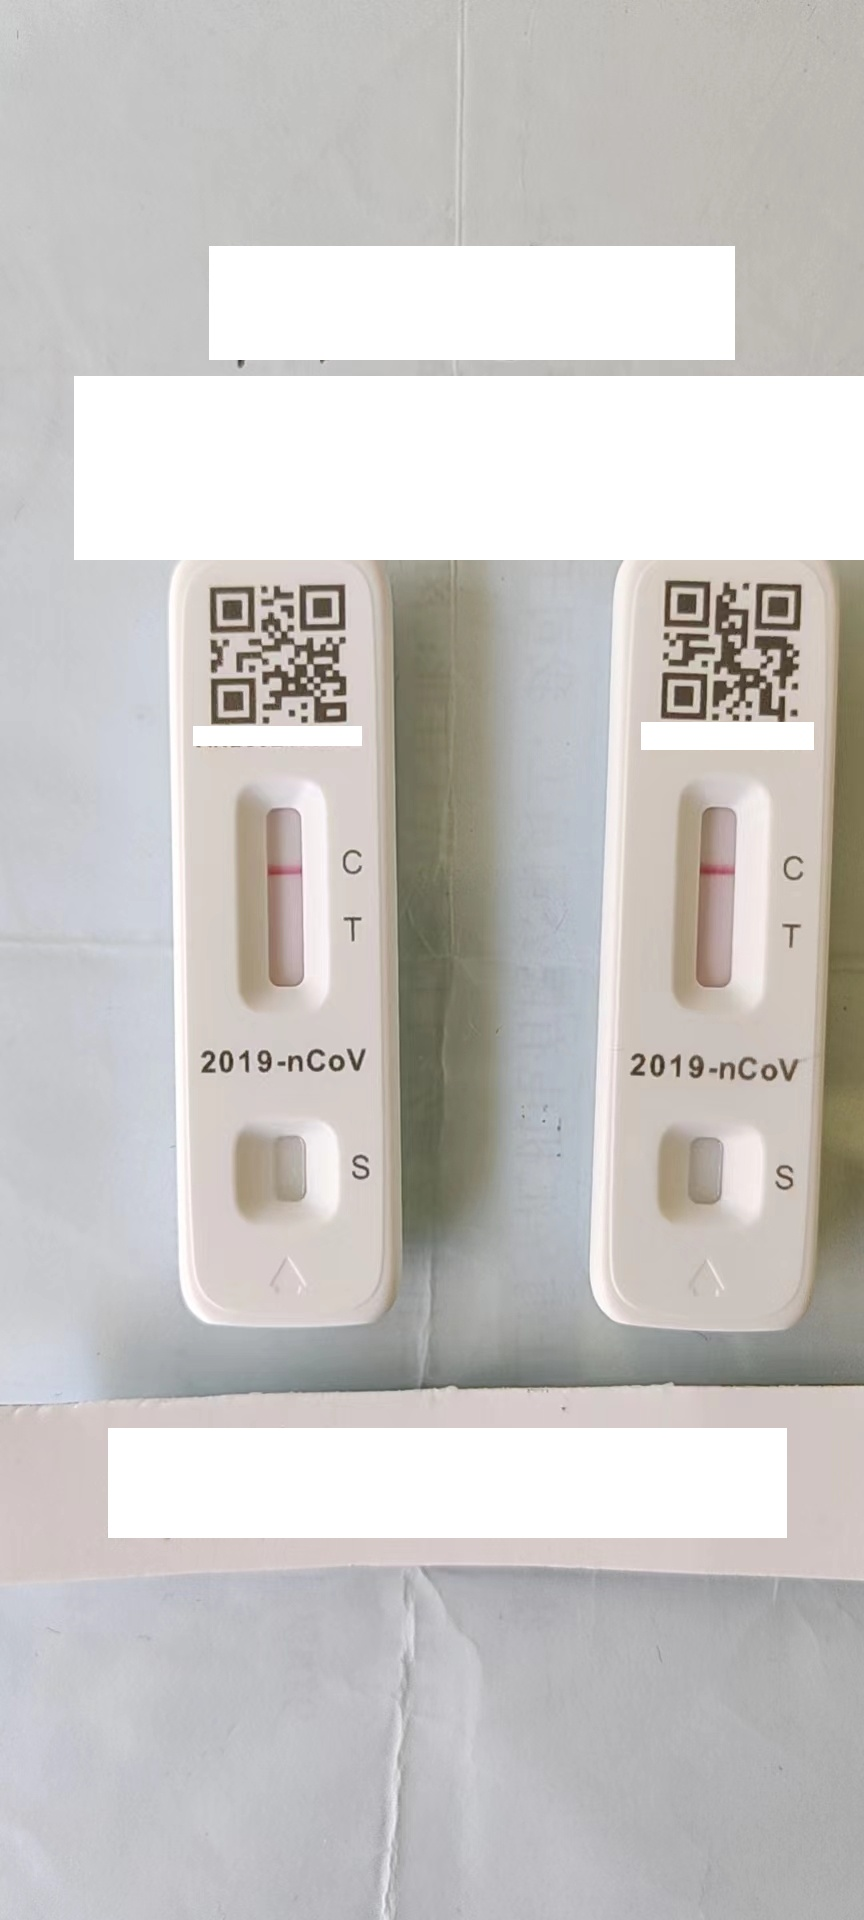negative: (231, 779, 328, 1018), (671, 781, 769, 1009)
